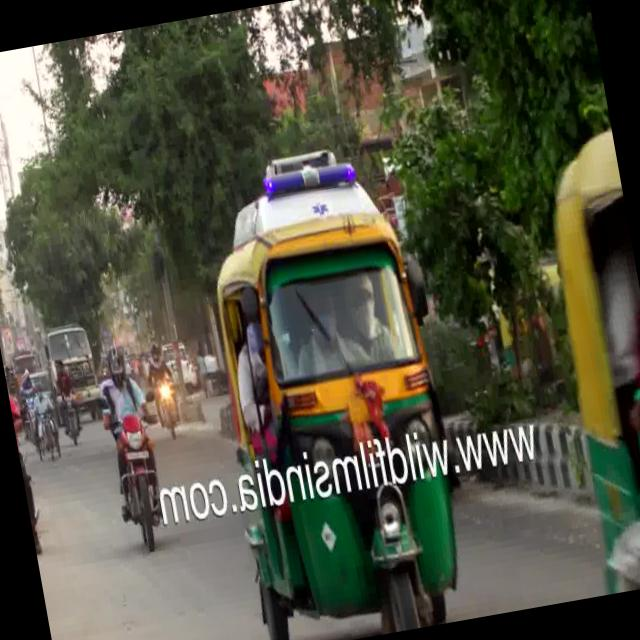ambulance: (214, 126, 390, 260)
